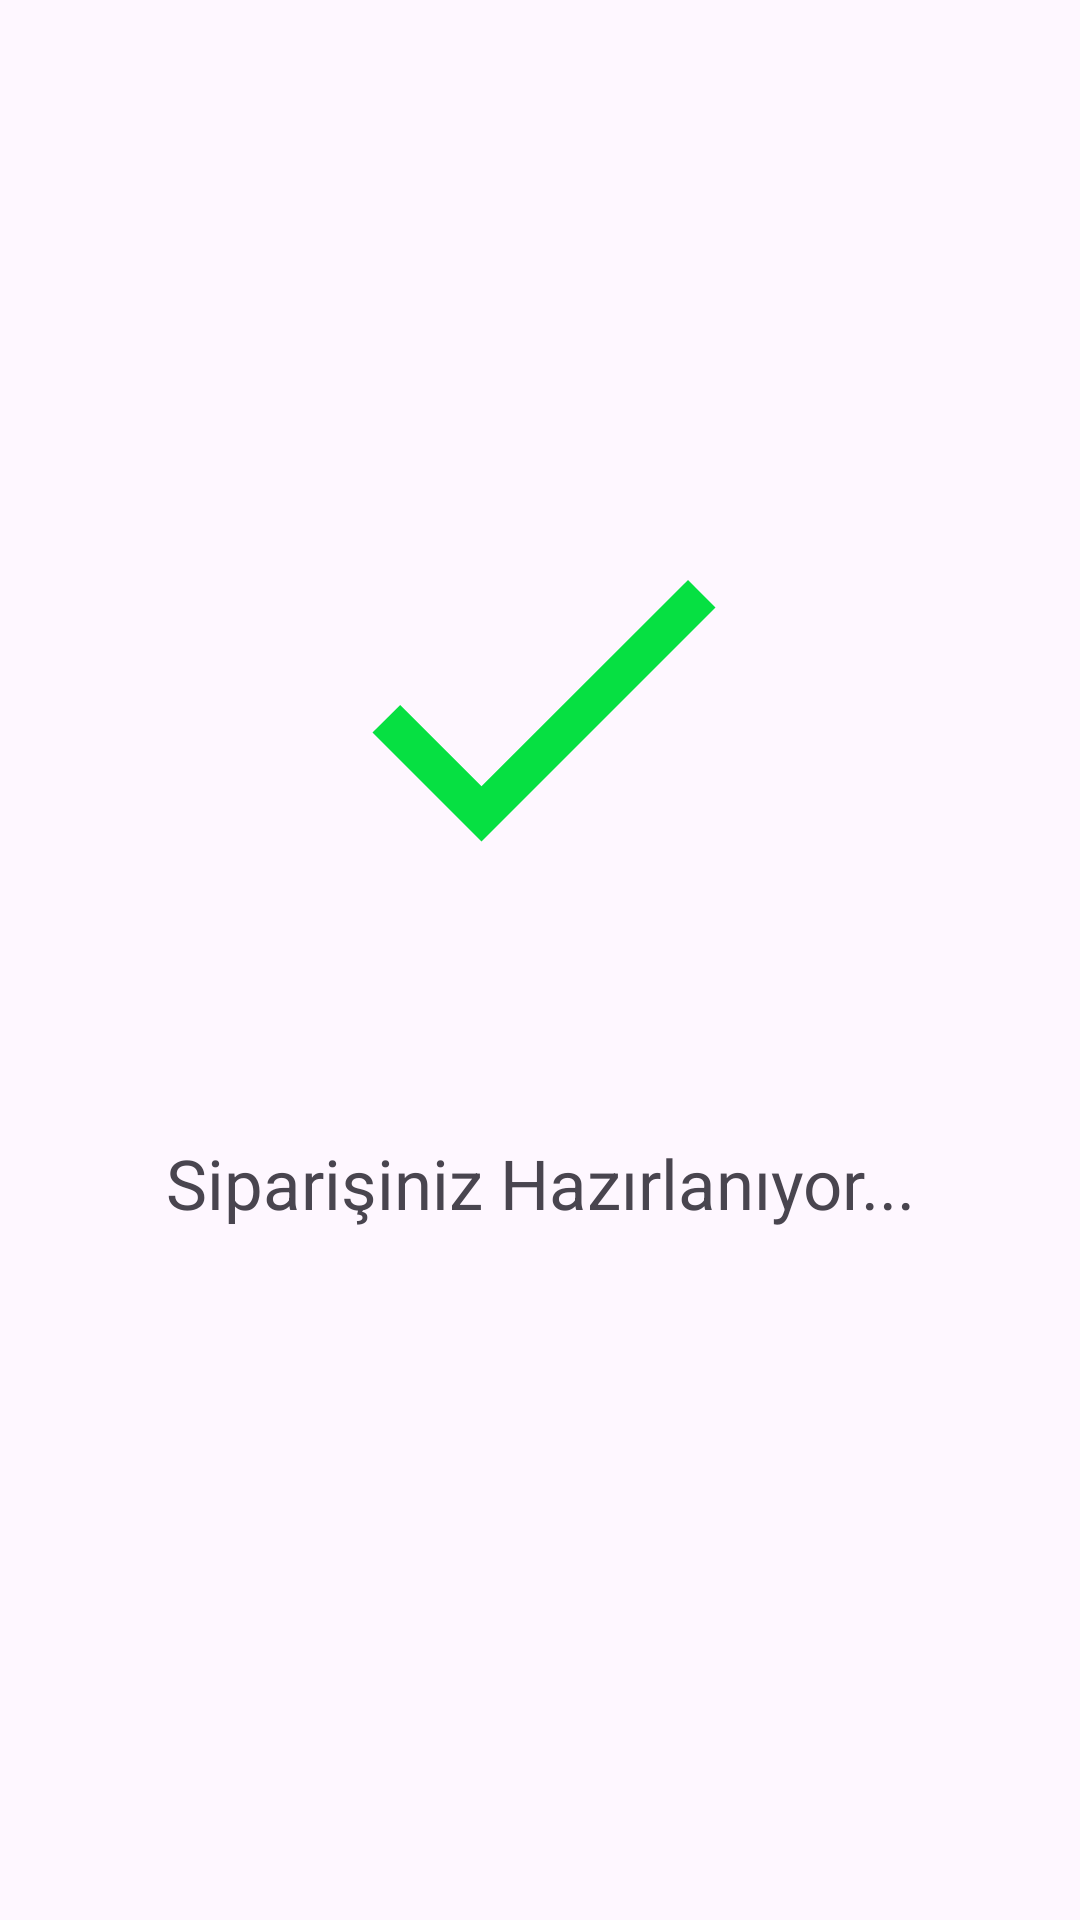

Icons on this 1080*1920 Android screen, each with the point to tap as [x,y]:
check: [544,711]
